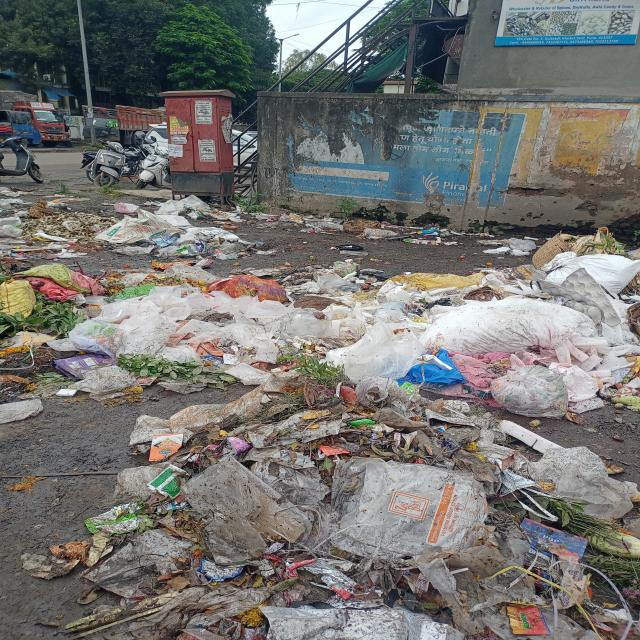garbage: (125, 394, 632, 640), (2, 247, 640, 407), (2, 196, 233, 248)
